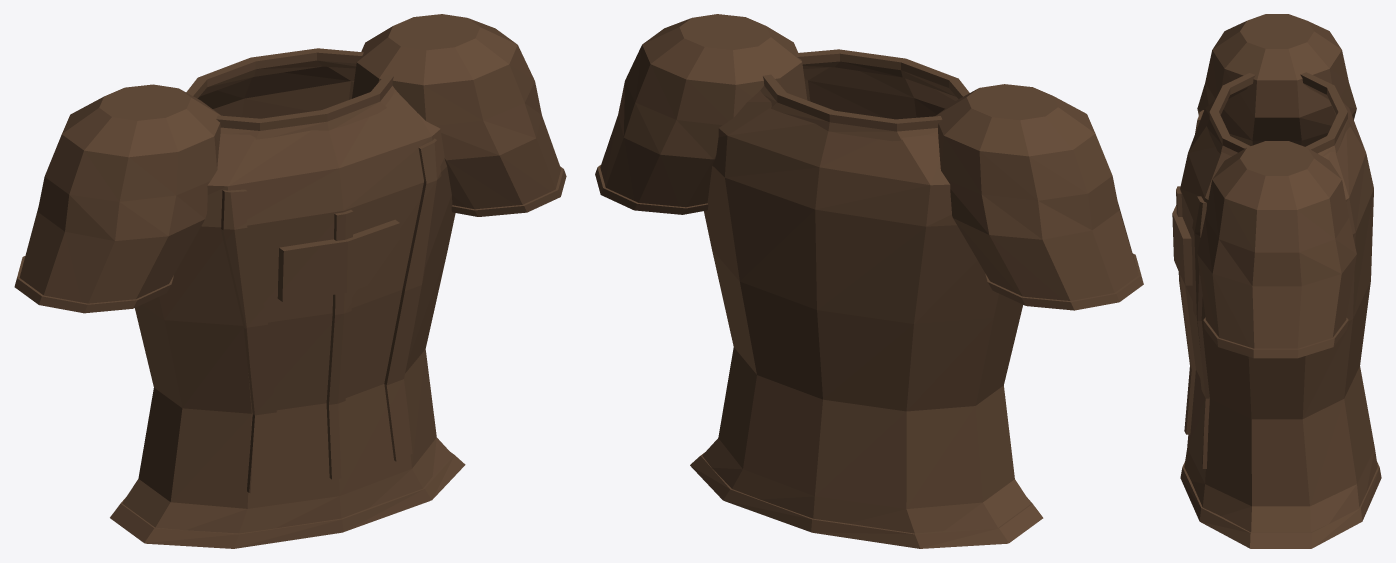
The model's file is leather_chest-male-thickHide.glb.
3 views of the same model, side by side, from view 1: azimuth 30°, elevation 25°; view 2: azimuth 150°, elevation 25°; view 3: azimuth 270°, elevation 25° (orthographic). The views are drawn at different scales.
Visible parts, largest first — view 1: leather tunic torso, leather upper sleeve -1, leather upper sleeve 1, Sewn tunic side facing -1, Fitted tunic neckline, Heavy hide binding leather tunic torso, Sewn tunic side facing 1, Bound tunic hem, Reinforced tunic closure, Sleeve cuff binding -1, Sleeve cuff binding 1; view 2: leather tunic torso, leather upper sleeve -1, leather upper sleeve 1, Fitted tunic neckline, Bound tunic hem, Sleeve cuff binding -1, Sleeve cuff binding 1; view 3: leather tunic torso, leather upper sleeve 1, leather upper sleeve -1, Bound tunic hem, Fitted tunic neckline, Sewn tunic side facing 1, Sleeve cuff binding 1, Reinforced tunic closure, Heavy hide binding leather tunic torso.
Boxes of the visible parts, x1,y1,x2,y2 form: leather tunic torso: (122,66,455,548); leather upper sleeve -1: (19,84,220,303); leather upper sleeve 1: (352,14,560,209); Sewn tunic side facing -1: (221,189,276,493); Fitted tunic neckline: (186,48,397,139); Heavy hide binding leather tunic torso: (277,219,399,301); Sewn tunic side facing 1: (384,138,441,461); Bound tunic hem: (110,452,465,548); Reinforced tunic closure: (326,210,353,479); Sleeve cuff binding -1: (14,256,173,313); Sleeve cuff binding 1: (451,166,566,216); leather tunic torso: (702,67,1030,548); leather upper sleeve -1: (935,84,1138,300); leather upper sleeve 1: (600,14,807,207); Fitted tunic neckline: (760,49,969,141); Bound tunic hem: (690,452,1043,548); Sleeve cuff binding -1: (985,253,1143,310); Sleeve cuff binding 1: (595,165,708,214); leather tunic torso: (1180,96,1377,548); leather upper sleeve 1: (1197,141,1356,348); leather upper sleeve -1: (1197,14,1356,146); Bound tunic hem: (1180,462,1381,548); Fitted tunic neckline: (1206,72,1350,156); Sewn tunic side facing 1: (1192,196,1209,468); Sleeve cuff binding 1: (1203,317,1348,358); Reinforced tunic closure: (1176,186,1195,434); Heavy hide binding leather tunic torso: (1172,205,1192,285).
Bounding box in the file's own units: 3.51 × 2.71 × 1.34.
